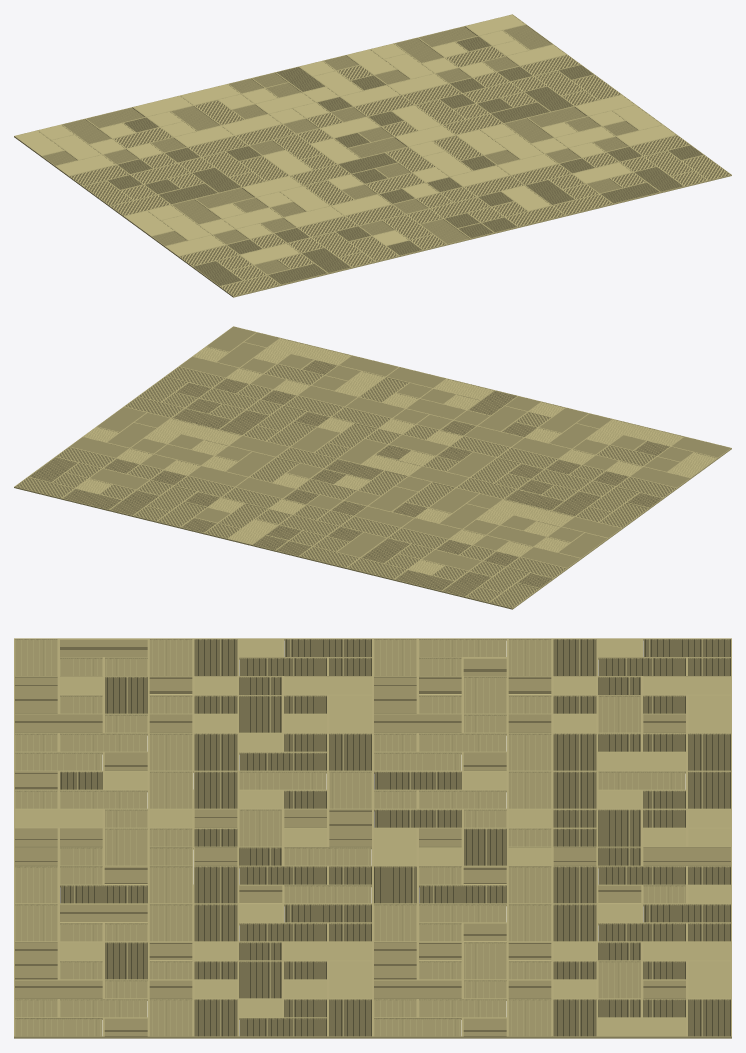
3 views of the same model, one above another, from view 1: azimuth 30°, elevation 25°; view 2: azimuth 150°, elevation 25°; view 3: azimuth 270°, elevation 25° (orthographic). The views are drawn at different scales.
Visible parts, largest first — view 1: Group158; view 2: Group158; view 3: Group158.
Part boxes in pixels (x1,y1,x2,y2): Group158: (14, 14, 731, 297); Group158: (14, 326, 731, 609); Group158: (14, 638, 731, 1038).
Size of the model in its own units: 1298 by 2.91 by 989.
